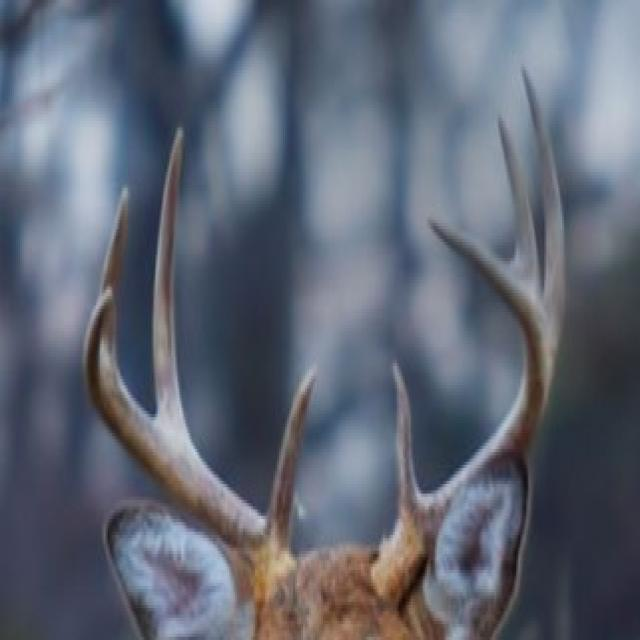L-F: (369, 216, 556, 601)
L-G1: (392, 358, 421, 517)
R-F: (81, 281, 294, 596)
R-G1: (268, 367, 318, 547)
R-G2: (152, 124, 190, 445)
